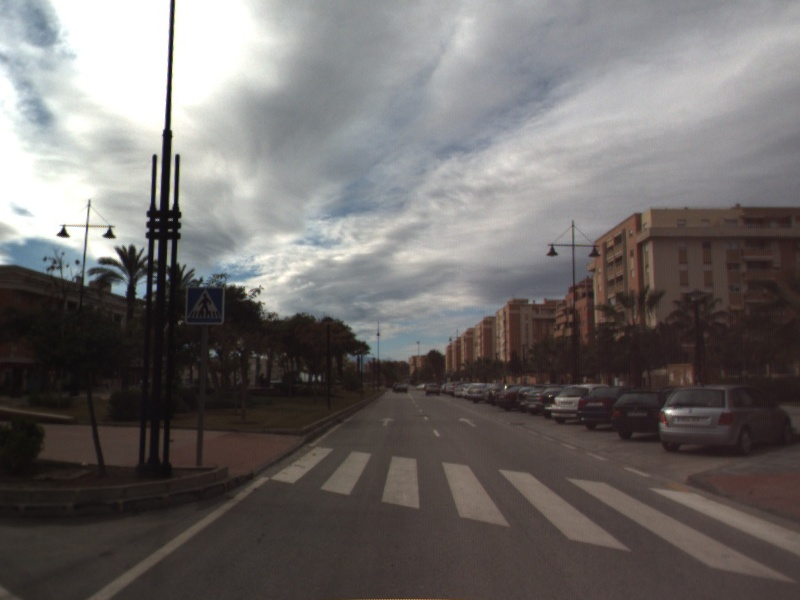STRAIGHT: (456, 415, 479, 429), (378, 415, 397, 428)
